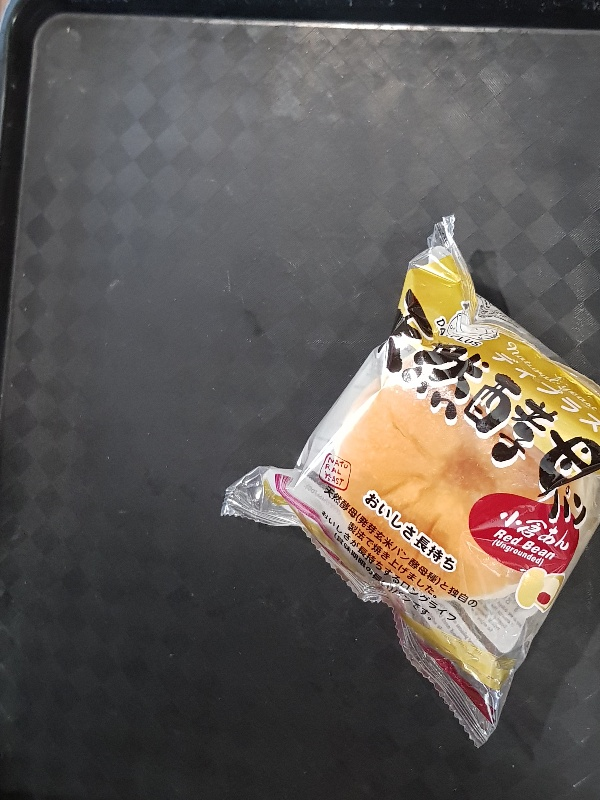Dayplus Red Bean: (217, 210, 600, 750)
